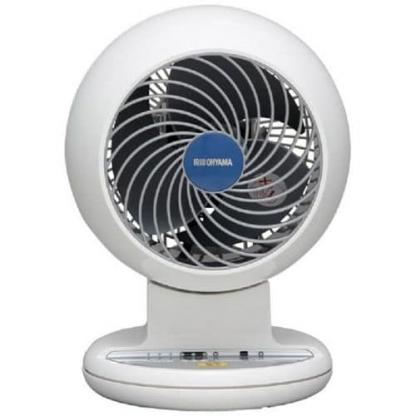fan: (63, 2, 349, 412)
